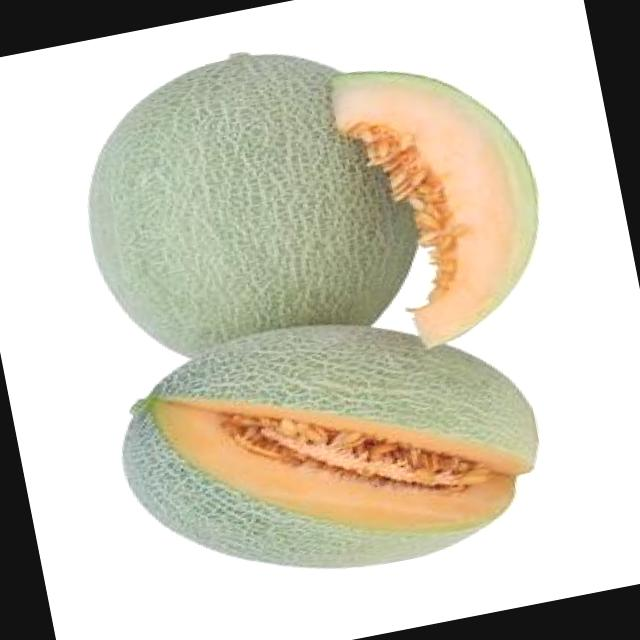cantaloupe: (98, 282, 559, 611), (56, 29, 431, 370), (330, 42, 565, 356)
